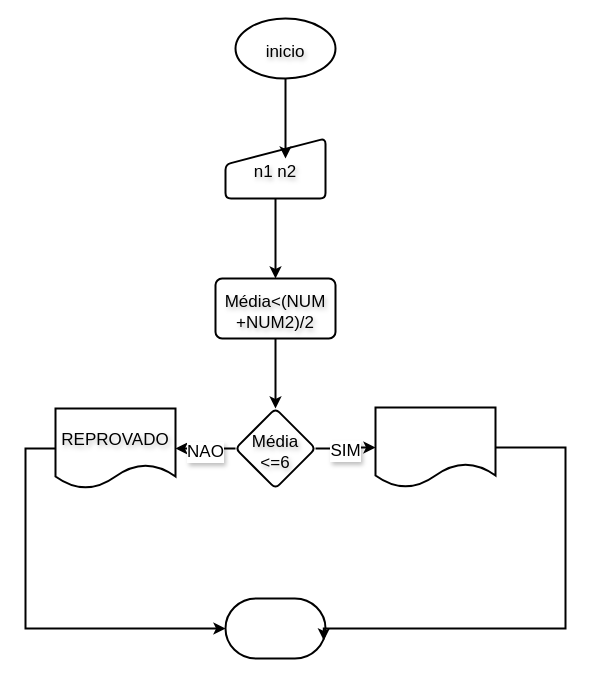
This 591x676 diagram has some shape labels left out. Here are the shapes that lost their labels. From the top down, the box of each, then its label:
(374, 406, 496, 488): APROVADO
(224, 597, 326, 659): FIM
